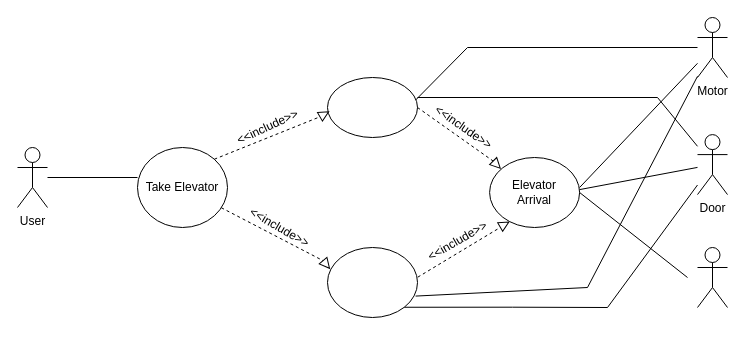
Some shapes in this 749 by 346 pixel diagram are drawn without their labels. Here are the shapes that lost their labels. From the top down, the centre of each, then its label:
At pixel 372 107: "Call elevator".
At pixel 372 282: "Ride Elevator".
At pixel 712 277: "Sensor".
